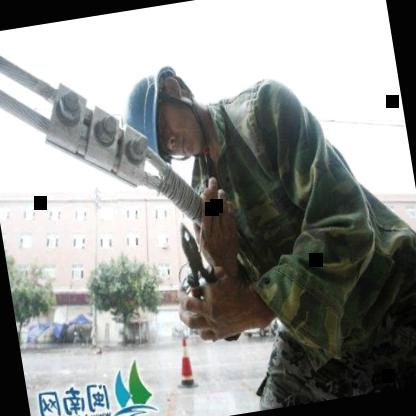helmet: (114, 56, 214, 170)
